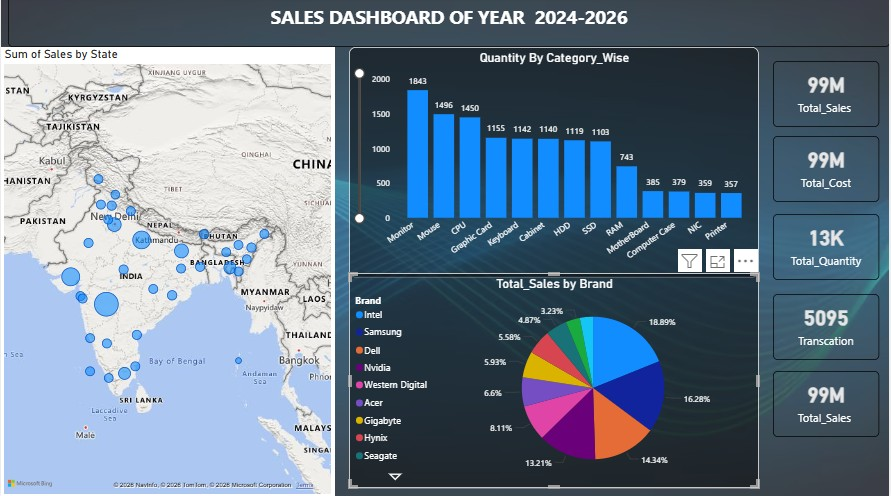

The dashboard page shown, as its layout file describes it:
{"tool":"powerbi","page":{"name":"Page 1","canvas":[1280,720],"ordinal":0},"visuals":[{"type":"textbox","box":[10.1,0,1269.9,72.2],"z":0},{"type":"card","fields":{"Values":["Sum(Sales_Data (2).Total_Sales)"]},"box":[1111.7,92.2,152.6,95],"z":1000},{"type":"card","fields":{"Values":["Sum(Sales_Data (2).Total_Sales)"]},"box":[1111.7,200.2,152.6,95],"z":2000},{"type":"card","fields":{"Values":["Sum(Sales_Data (2).Quantity)"]},"box":[1111.7,312.5,152.6,95],"z":3000},{"type":"card","fields":{"Values":["CountNonNull(Sales_Data (2).Order_Number)"]},"box":[1111.7,427.7,152.6,95],"z":4000},{"type":"card","fields":{"Values":["Sum(Sales_Data (2).Total_Sales)"]},"box":[1111.7,538.6,152.6,95],"z":5000},{"type":"clusteredColumnChart","title":"Quantity By Category_Wise","fields":{"Y":["Sum(Sales_Data (2).Quantity)"],"Category":["Sales_Data (2).Category"]},"box":[501.4,72.5,589.9,331.9],"z":6000},{"type":"pieChart","fields":{"Y":["Sum(Sales_Data (2).Total_Sales)"],"Category":["Sales_Data (2).Brand"]},"box":[501.4,397.1,589.9,310.1],"z":7000},{"type":"map","fields":{"Category":["State_list.State"],"Size":["Sum(Sales_Data (2).Sales)"]},"box":[0,72.5,479.7,647.8],"z":8000}]}

Visuals, with their boxes in screenshot pixels (x1, y1, x2, y2), scaled from the page's 1280x720 canvas onto the 891x496 screenshot:
textbox: <box>7,0,890,50</box>
card - Sum(Sales_Data (2).Total_Sales): <box>774,64,880,129</box>
card - Sum(Sales_Data (2).Total_Sales): <box>774,138,880,203</box>
card - Sum(Sales_Data (2).Quantity): <box>774,215,880,281</box>
card - CountNonNull(Sales_Data (2).Order_Number): <box>774,295,880,360</box>
card - Sum(Sales_Data (2).Total_Sales): <box>774,371,880,436</box>
"Quantity By Category_Wise" clusteredColumnChart: <box>349,50,760,279</box>
pieChart - Sum(Sales_Data (2).Total_Sales) x Sales_Data (2).Brand: <box>349,274,760,487</box>
map - State_list.State x Sum(Sales_Data (2).Sales): <box>0,50,334,495</box>
